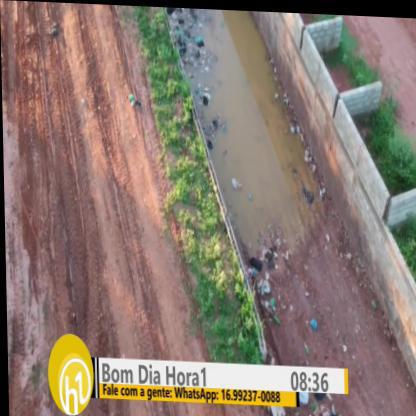agua: (210, 16, 308, 224)
